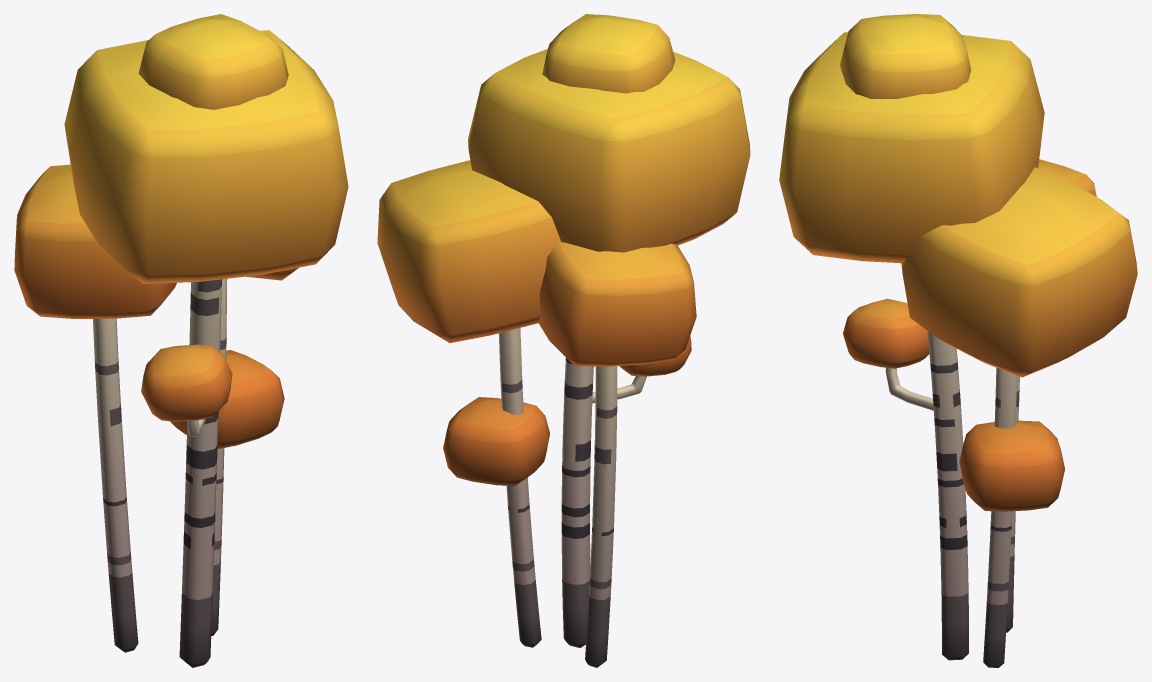
Rendered from birch_tree_col2_05.fbx.
The picture shows the model from 3 angles, left to right: view 1: azimuth 30°, elevation 25°; view 2: azimuth 150°, elevation 25°; view 3: azimuth 270°, elevation 25°; orthographic projection. The views are drawn at different scales.
Parts seen in each view (by area): view 1: birch_tree_col2_05; view 2: birch_tree_col2_05; view 3: birch_tree_col2_05.
Part boxes in pixels (x1,y1,x2,y2): birch_tree_col2_05: (14, 14, 348, 667); birch_tree_col2_05: (377, 14, 750, 667); birch_tree_col2_05: (779, 14, 1137, 667).
Size of the model in its own units: 423 by 810 by 419.
1 material, 1 textured.
